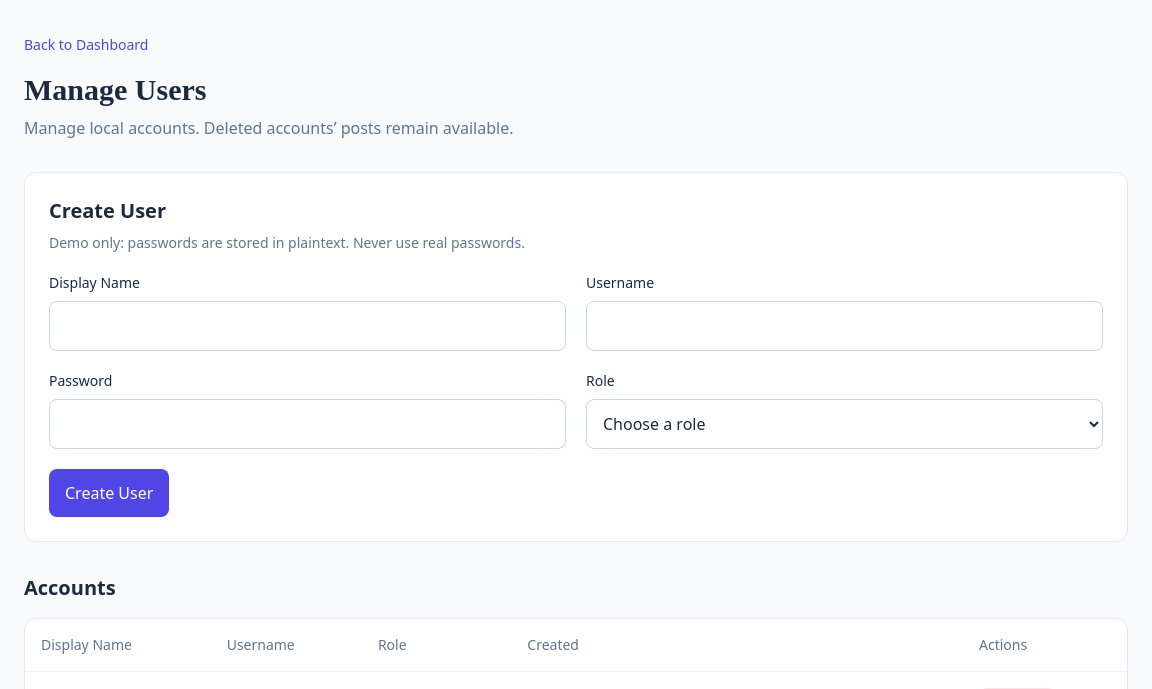
Test case: UserManagement interactions › shows duplicate validation inline and retains values without creation
Type "New Writer" into the field labelled "Display Name" at (308, 326), box [49,301,566,351]
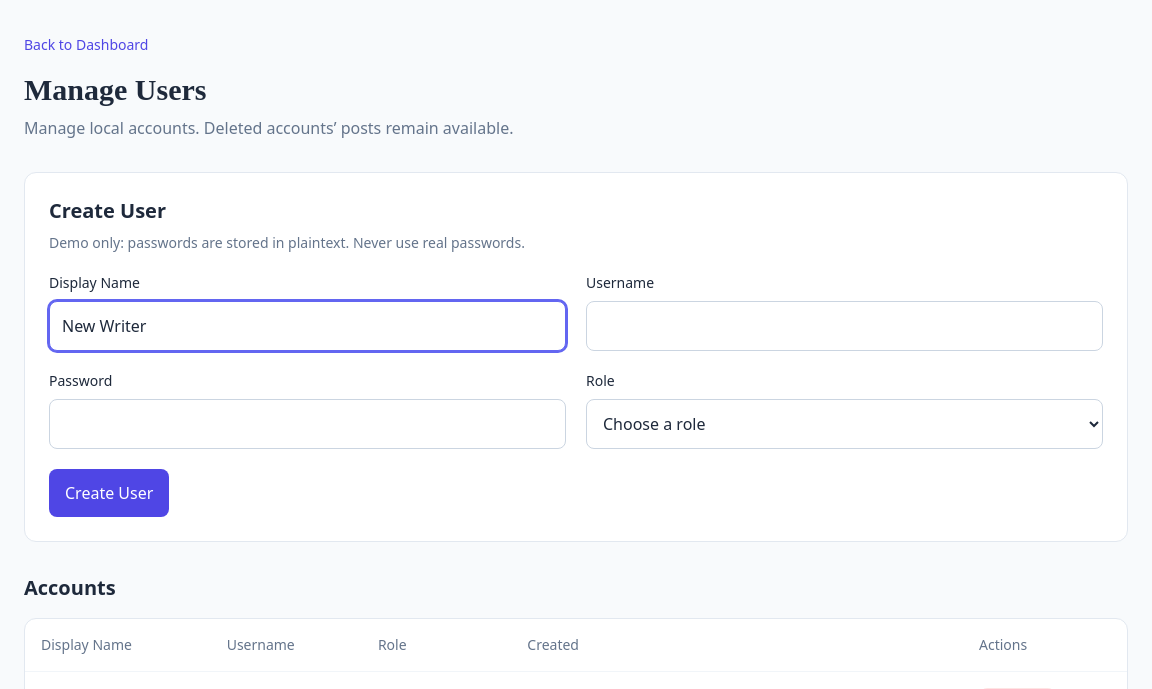
Type "WRITER" into the field labelled "Username" at (844, 326), box [586,301,1103,351]
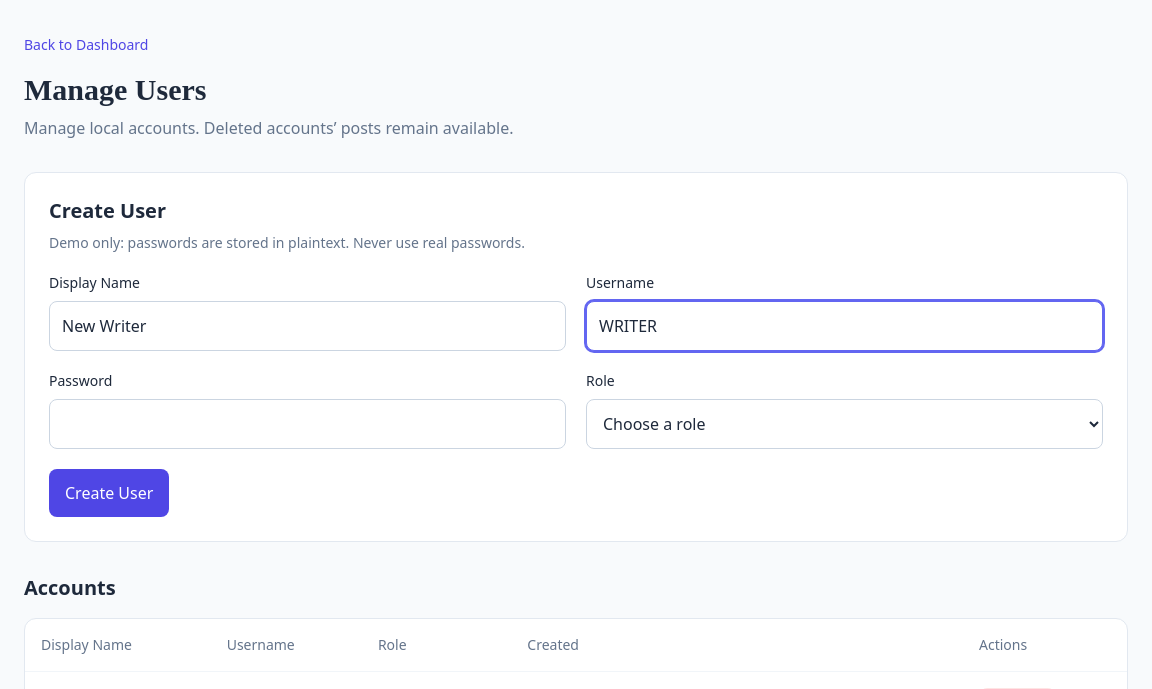
Type "demo-only" into the password field labelled "Password" at (308, 424), box [49,399,566,449]
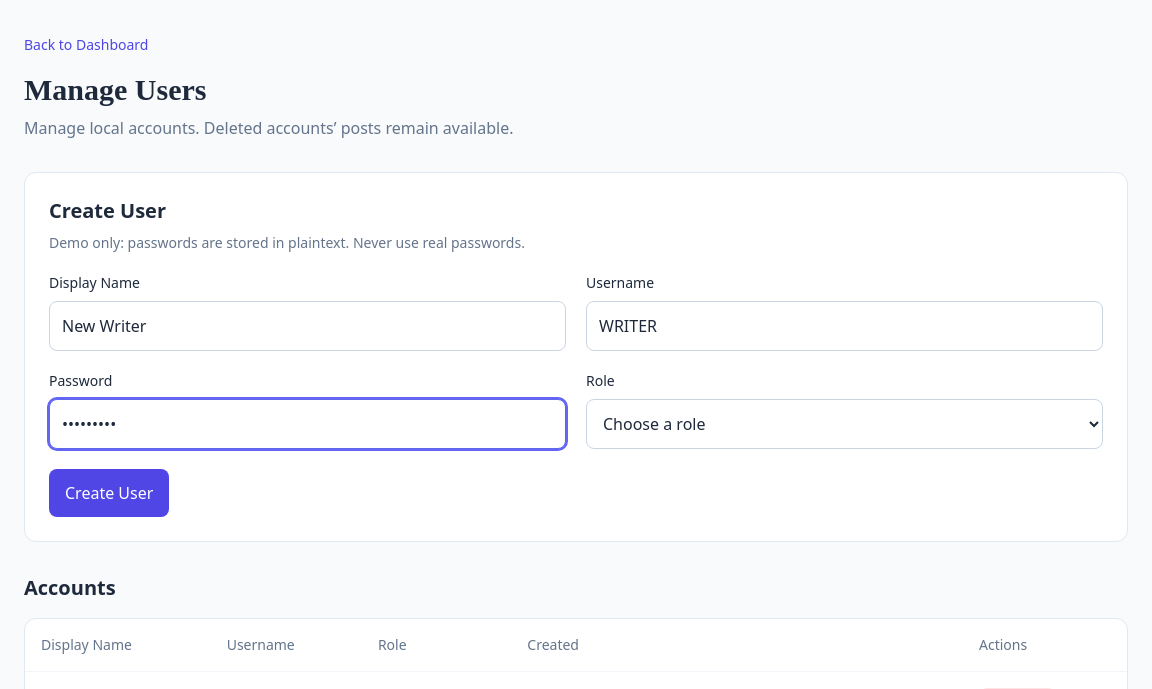
Select "user" in the dropdown labelled "Role" at (844, 424), box [586,399,1103,449]
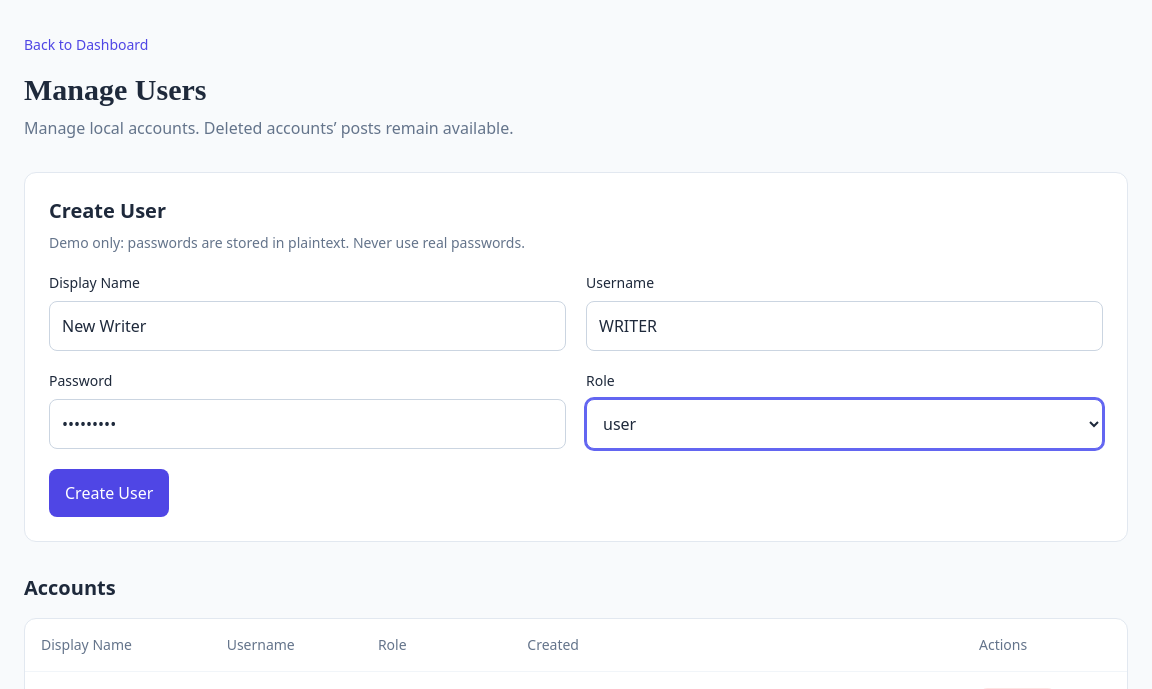
Click the button "Create User" at (109, 493), box [49,469,169,517]
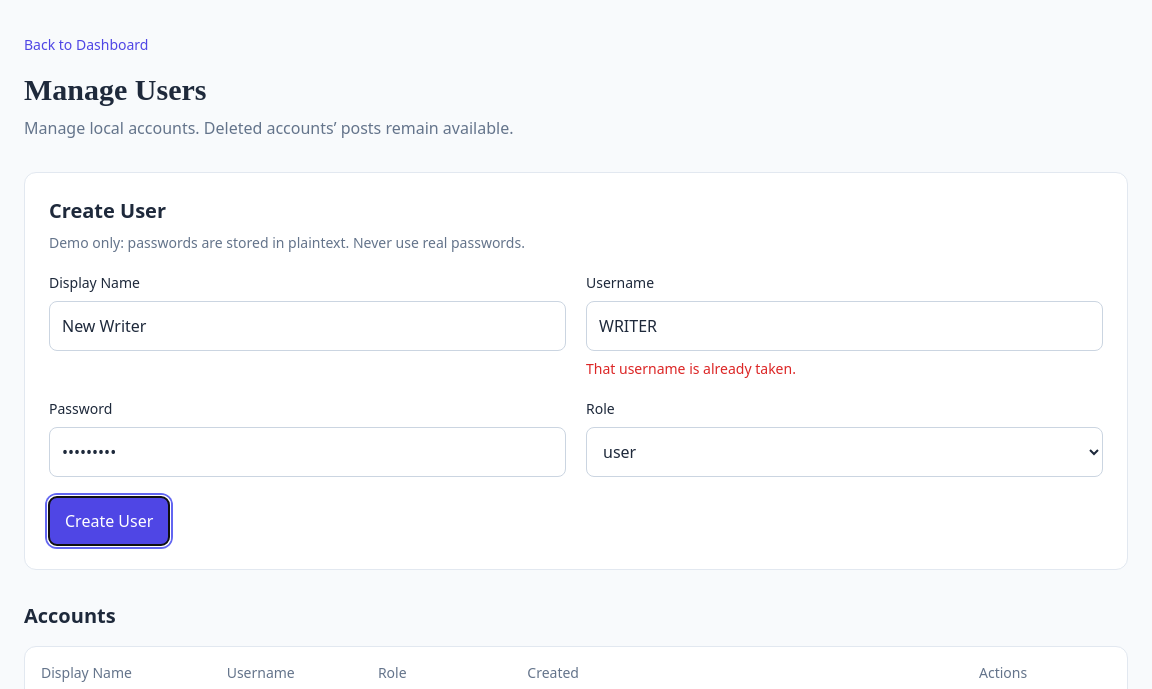
Expected: the message shows "already taken", [586,359,796,378]
